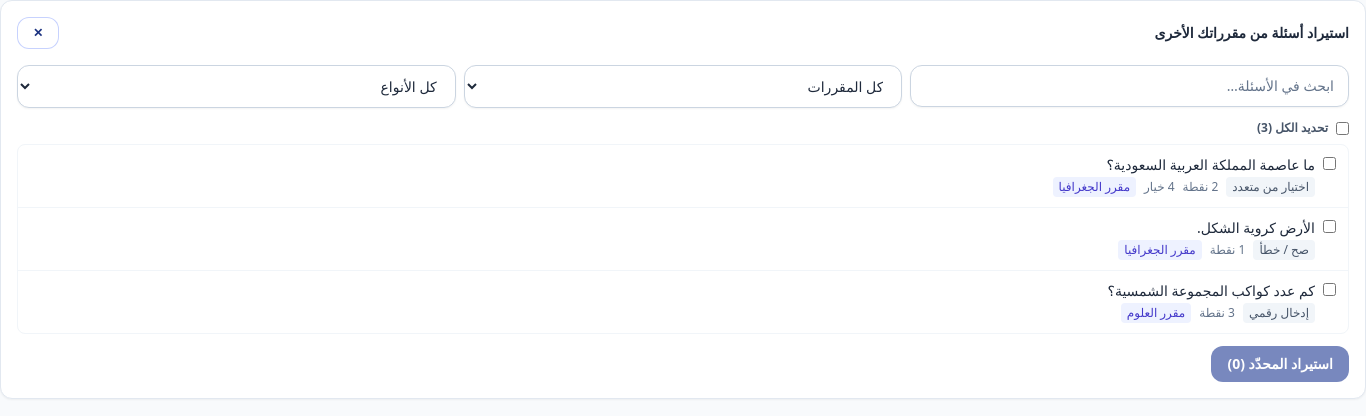
Test case: QuestionImportPicker — E5 › checkbox «تحديد الكل» يُحدِّد جميع الأسئلة
Check: the text "ما عاصمة المملكة العربية السعودية؟" is shown, box [1106, 155, 1315, 174]
# checkbox «تحديد الكل»
Step 1. Click the checkbox named "تحديد كل الأسئلة" → {"x": 1342, "y": 128}, box [1336, 122, 1349, 134]
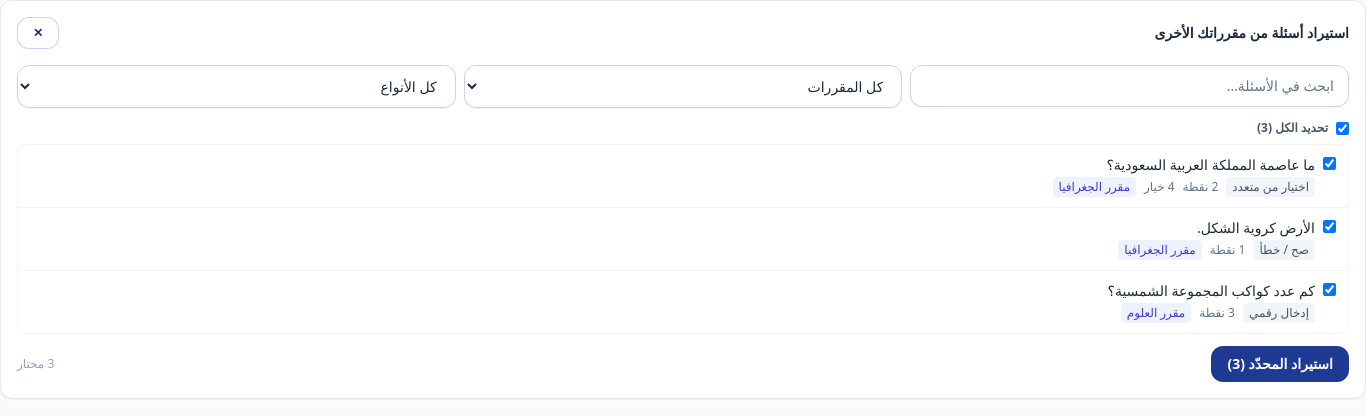
Check: the button "استيراد المحدّد (3)" is enabled, box [1211, 346, 1349, 382]
